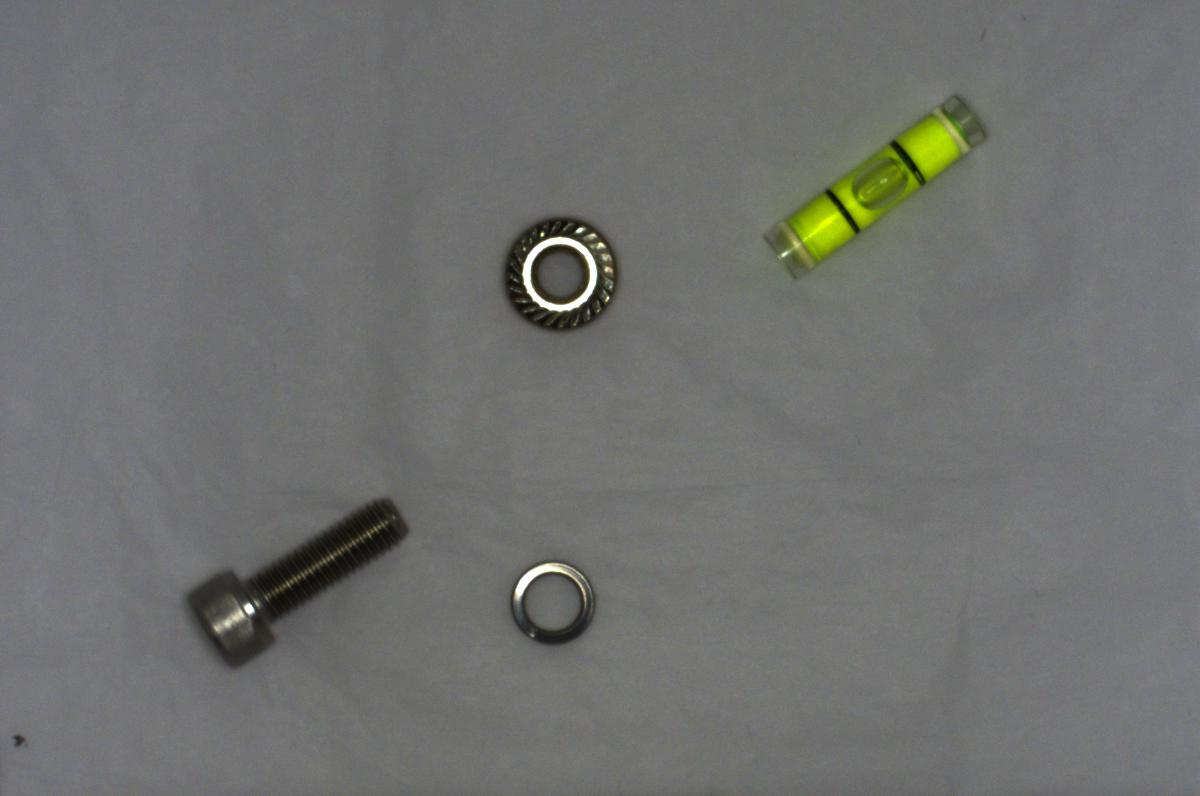Flange nut: (490, 212, 628, 336)
Hexagon screw: (182, 495, 414, 662)
Horizontal bubble: (754, 86, 991, 283)
Spring washer: (502, 553, 598, 652)
